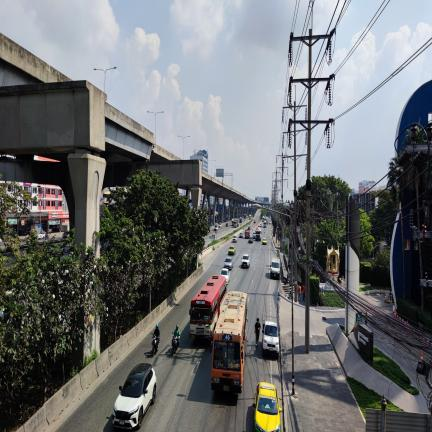bus: (211, 291, 247, 393), (189, 275, 226, 339), (255, 228, 261, 241)
car: (112, 363, 156, 429), (262, 320, 279, 358), (220, 268, 230, 285), (241, 254, 250, 268), (224, 257, 233, 270), (245, 230, 250, 238), (248, 237, 253, 243), (239, 233, 243, 238)
human: (254, 318, 261, 346), (154, 324, 160, 350), (255, 318, 260, 345), (174, 325, 180, 347), (154, 324, 160, 338), (298, 285, 301, 301), (303, 286, 305, 300)
motorbike: (152, 334, 159, 357), (172, 335, 179, 357), (173, 333, 173, 335)
pickup: (232, 235, 237, 242)
taxi: (253, 382, 282, 432), (228, 245, 235, 255), (262, 238, 267, 245)
truck: (262, 315, 280, 358), (255, 228, 261, 241), (244, 230, 250, 239)
van: (270, 258, 280, 279)
